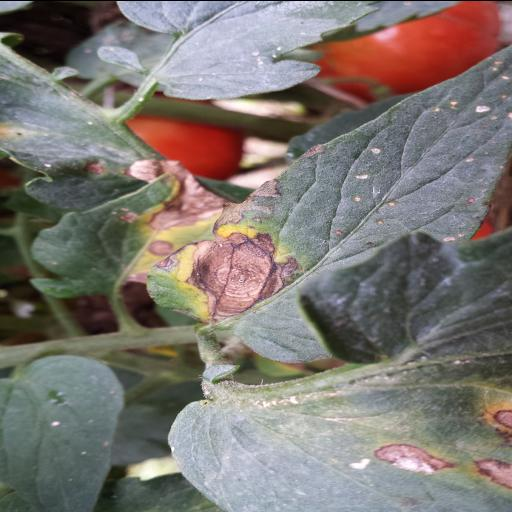Early Blight: (139, 39, 512, 363), (167, 228, 512, 512), (26, 168, 234, 300)
